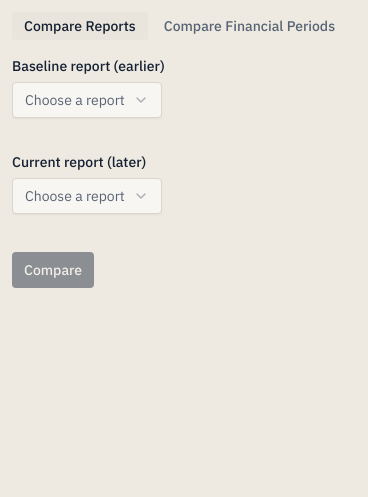
Scenario: ChangeBriefSection › switching to period mode shows the financial-period pickers instead
Click the button "Compare Financial Periods". click: (249, 26)
box: [152,12,347,40]
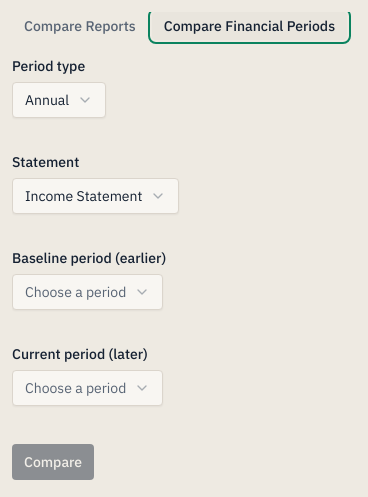
Check: the text "Baseline period (earlier)" is shown, box [12,249,166,267]
Check: the text "Current period (later)" is shown, box [12,345,148,363]
Click the dropdown labelled "Choose a period" below "Baseline period (earlier)". click: (88, 292)
box: [12,274,163,310]
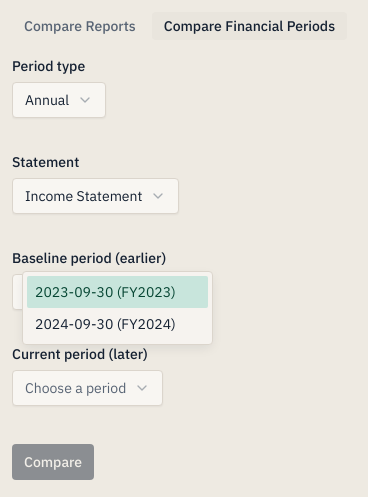
Check: the option "2023-09-30 (FY2023)" is shown, box [27,276,208,308]
Check: the option "2024-09-30 (FY2024)" is shown, box [35,315,176,333]
